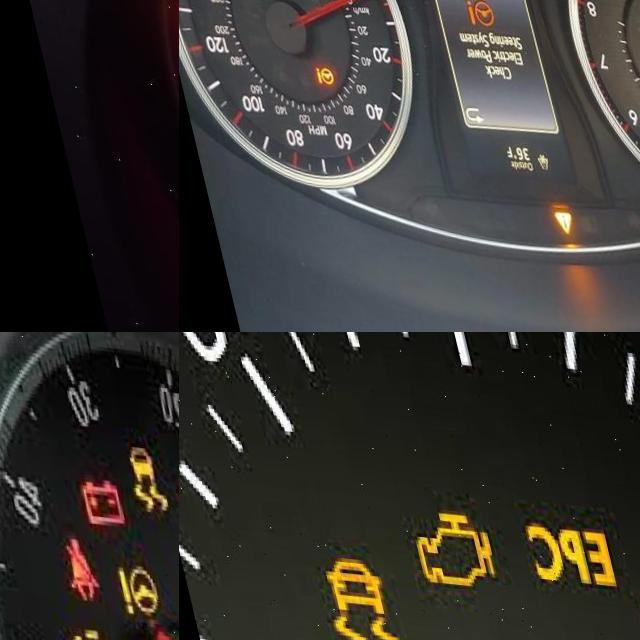Electronic Power Steering: (452, 0, 492, 25), (300, 57, 325, 87)
Electronic Power Steering Warning: (100, 558, 153, 612)
Seat Belt: (48, 531, 87, 593)
